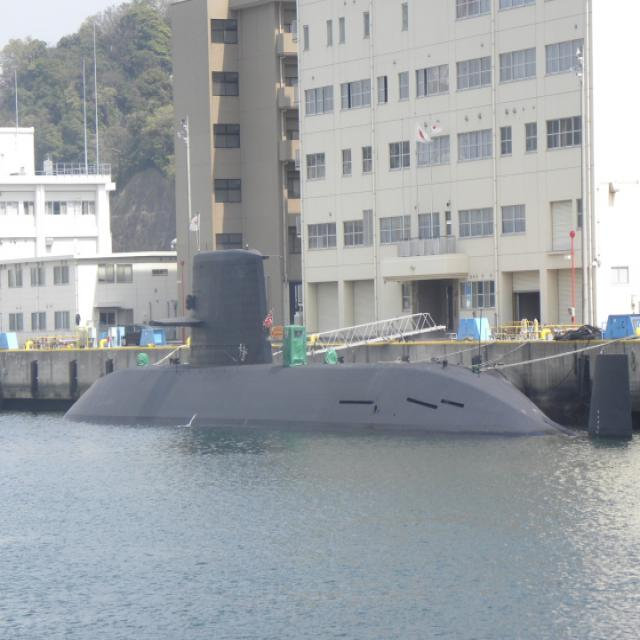submarine: (60, 233, 640, 429)
